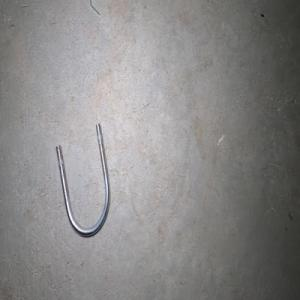ClampPart: (55, 122, 110, 238)
